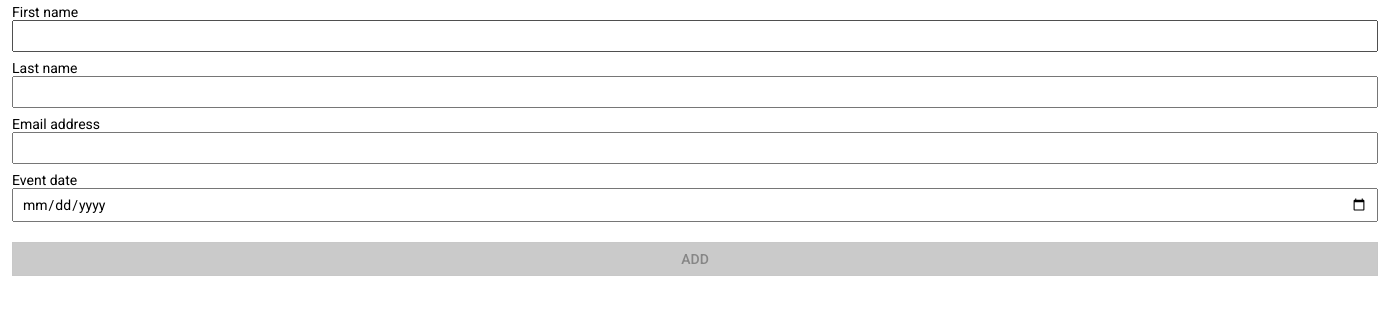
Test: <EventForm> tests › should show error when Email address is cleared after providing some input
Type "example@domain.com" into the field labelled "Email address".
click(695, 148); type("example@domain.com")  # box [12, 132, 1378, 164]
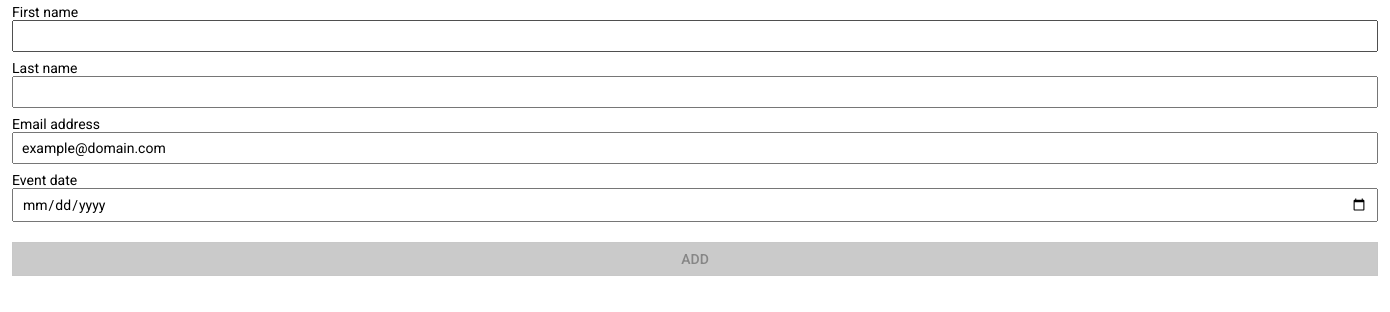
Clear the field labelled "Email address" at (695, 148), box [12, 132, 1378, 164]
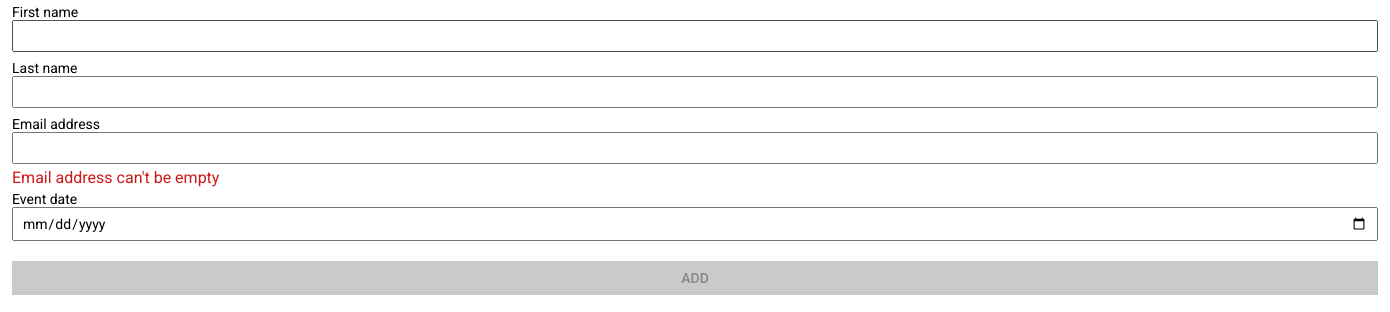
Check: the text "Email address can't be empty" is shown, box [12, 168, 219, 187]
